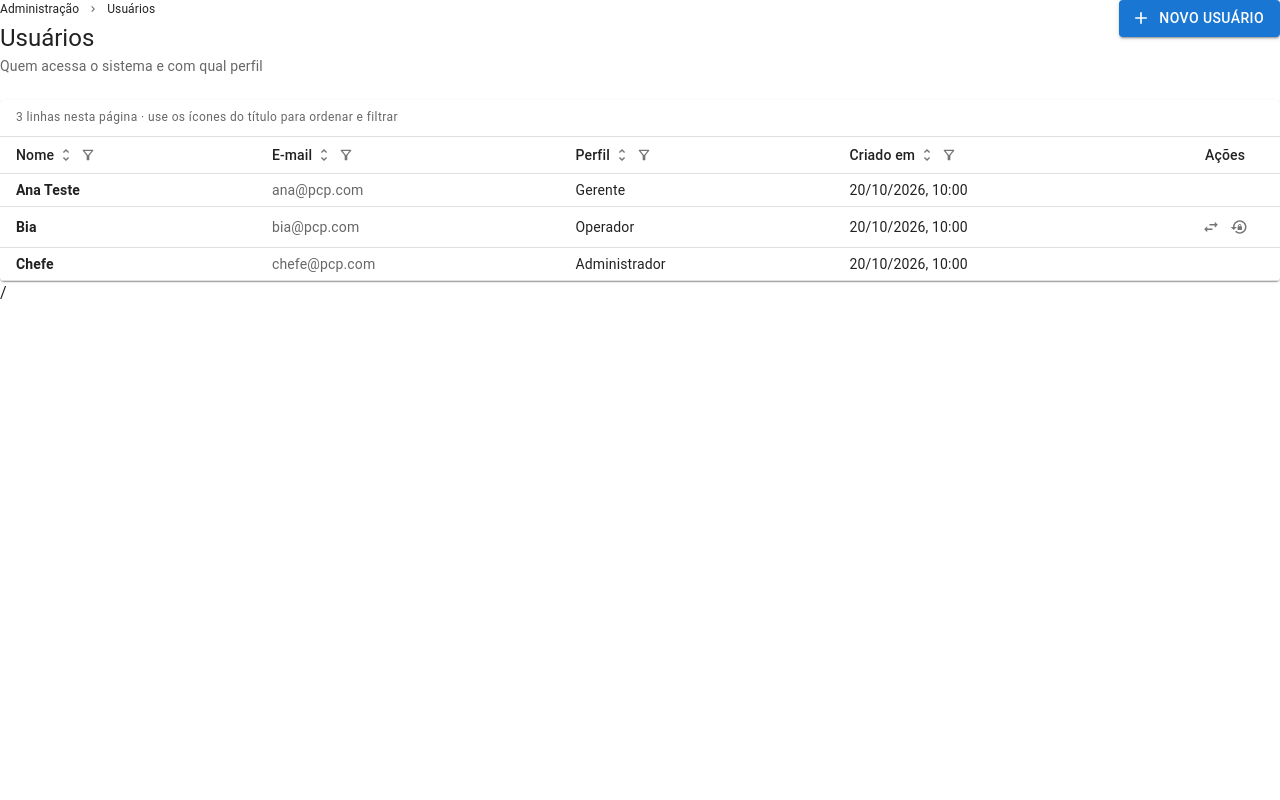
Test case: UsuariosAcessoPage › mostra o motivo quando o servidor recusa (e-mail já cadastrado)
This screenshot has width=1280, height=800.
Click the button "Novo usuário".
click(1200, 18)  # box [1119,0,1279,36]
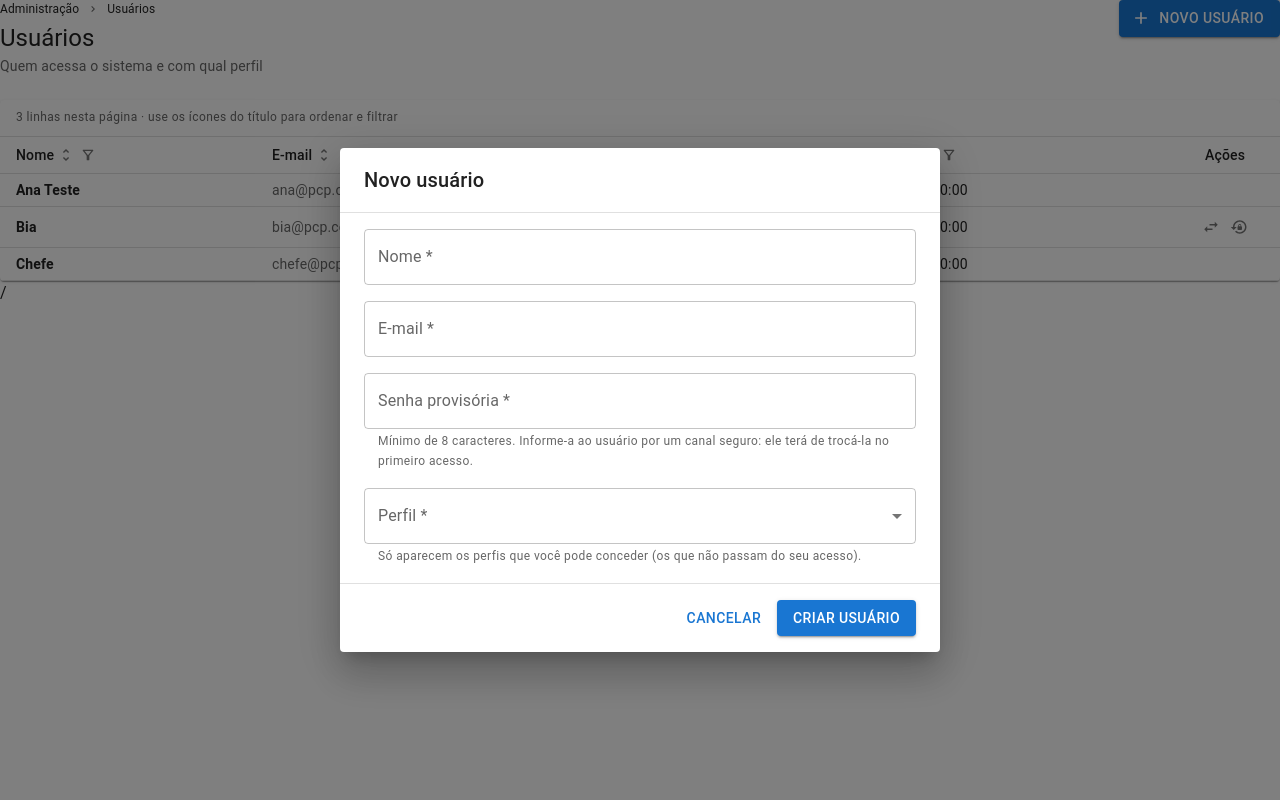
Type "Carla" into the field labelled "Nome *".
click(640, 257); type("Carla")  # box [364,229,916,285]
Type "carla@pcp.com" into the field labelled "E-mail *".
click(640, 329); type("carla@pcp.com")  # box [364,301,916,357]
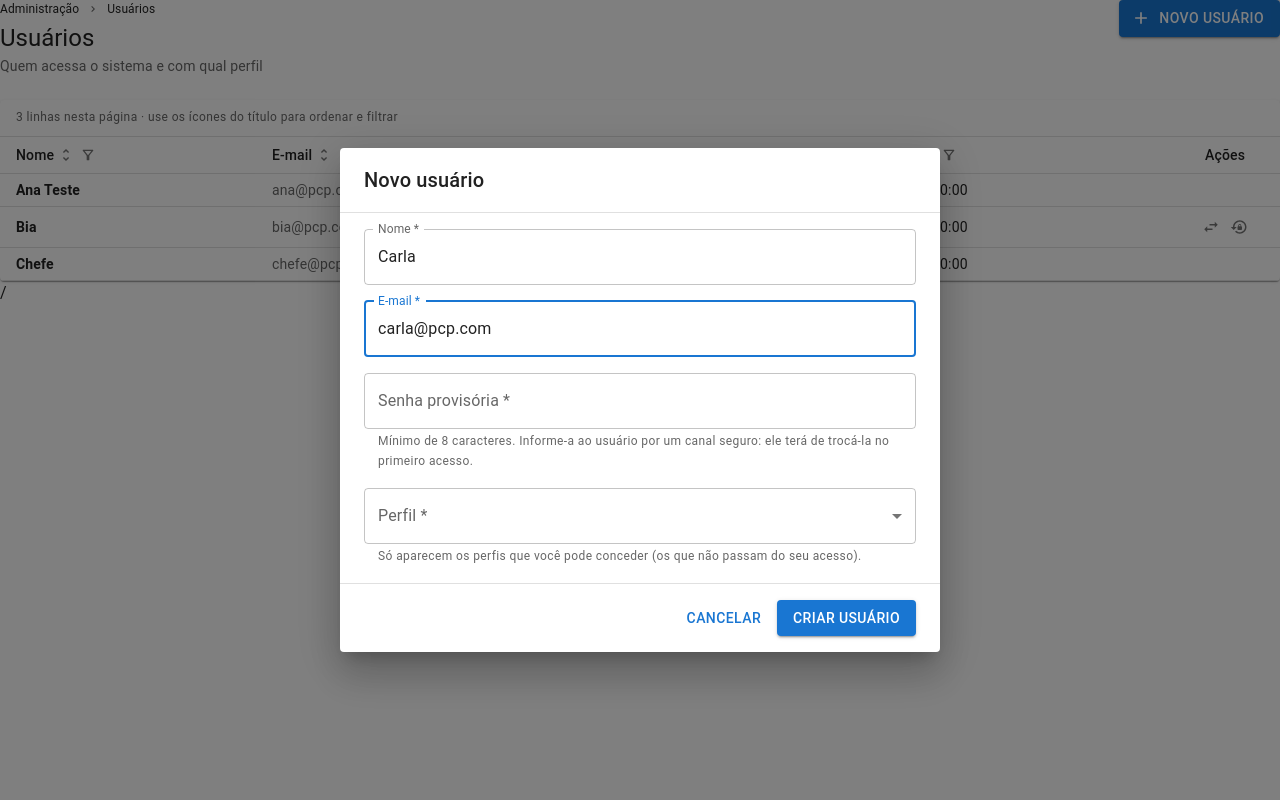
Type "provisoria1" into the password field labelled "Senha provisória *".
click(640, 401); type("provisoria1")  # box [364,373,916,429]
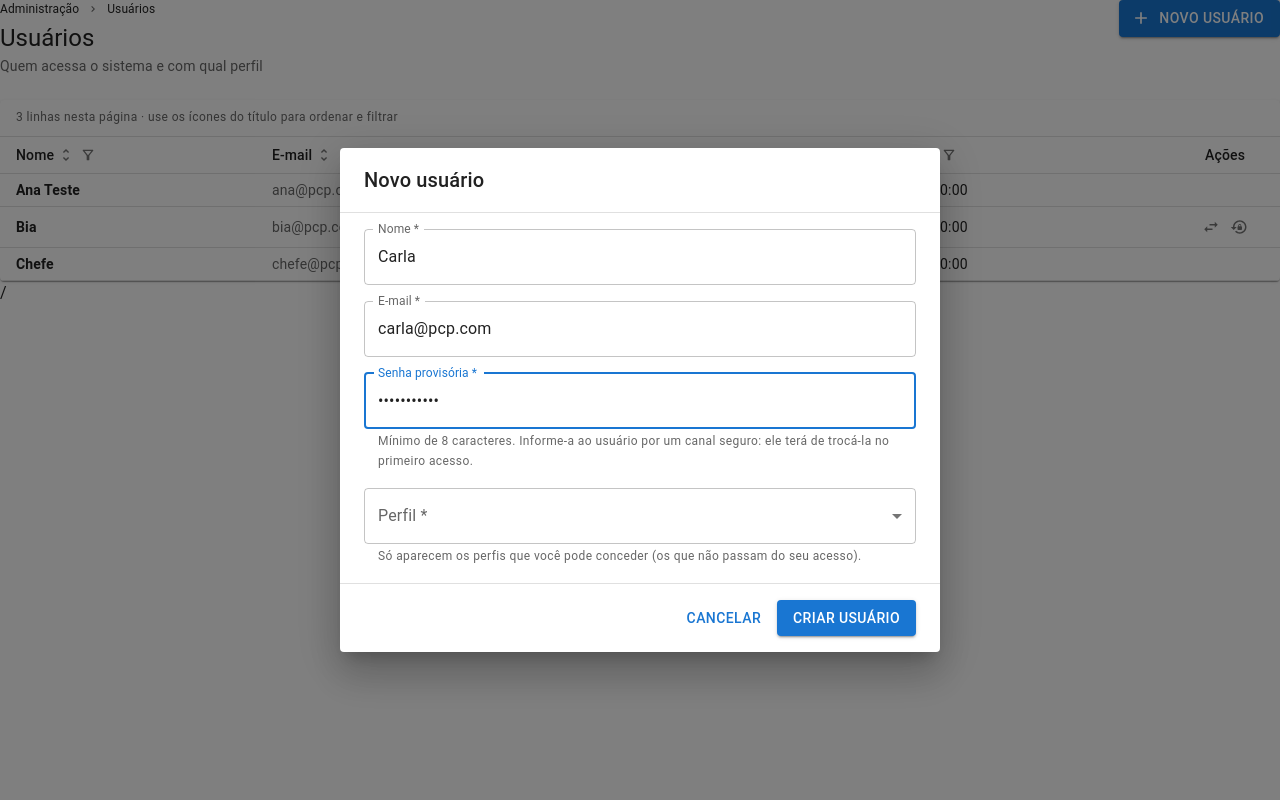
Click the dropdown named "Perfil".
click(640, 516)  # box [364,488,916,544]
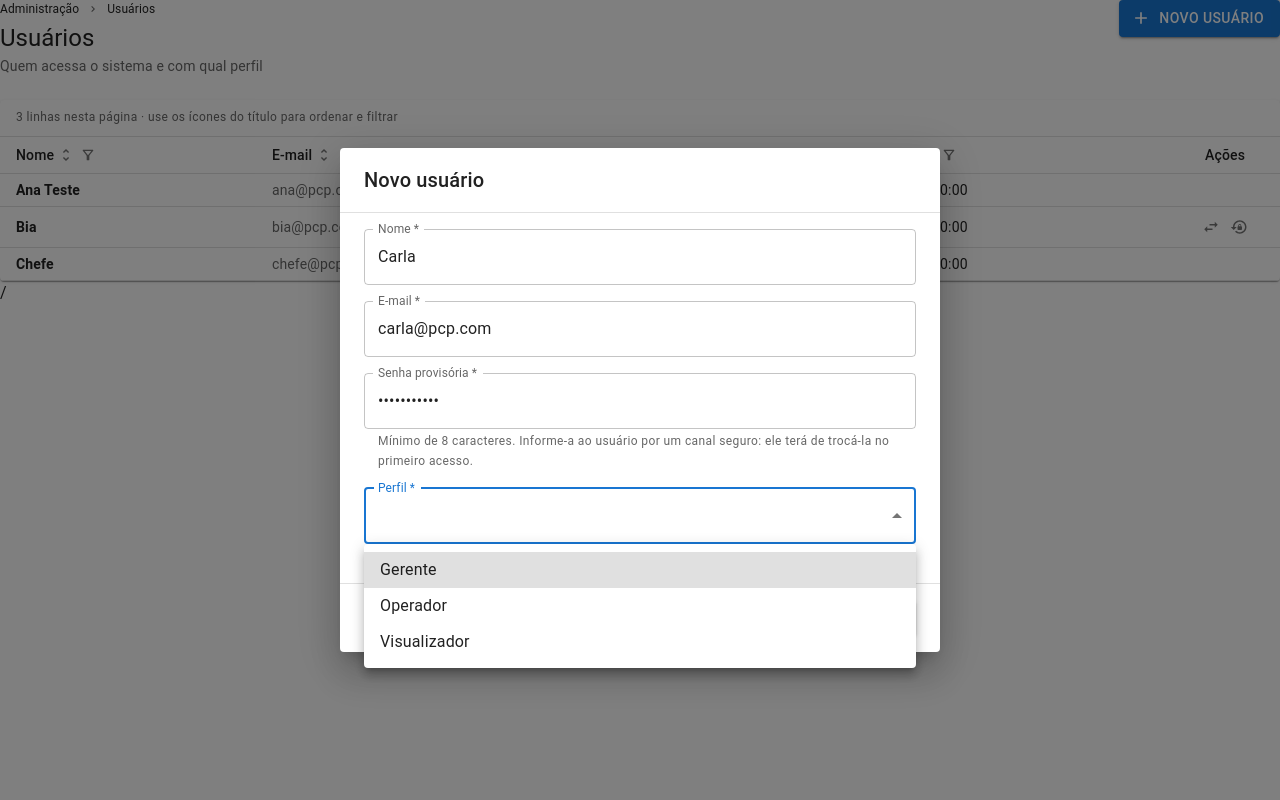
Click the option "Operador".
click(414, 606)  # box [380,596,447,615]
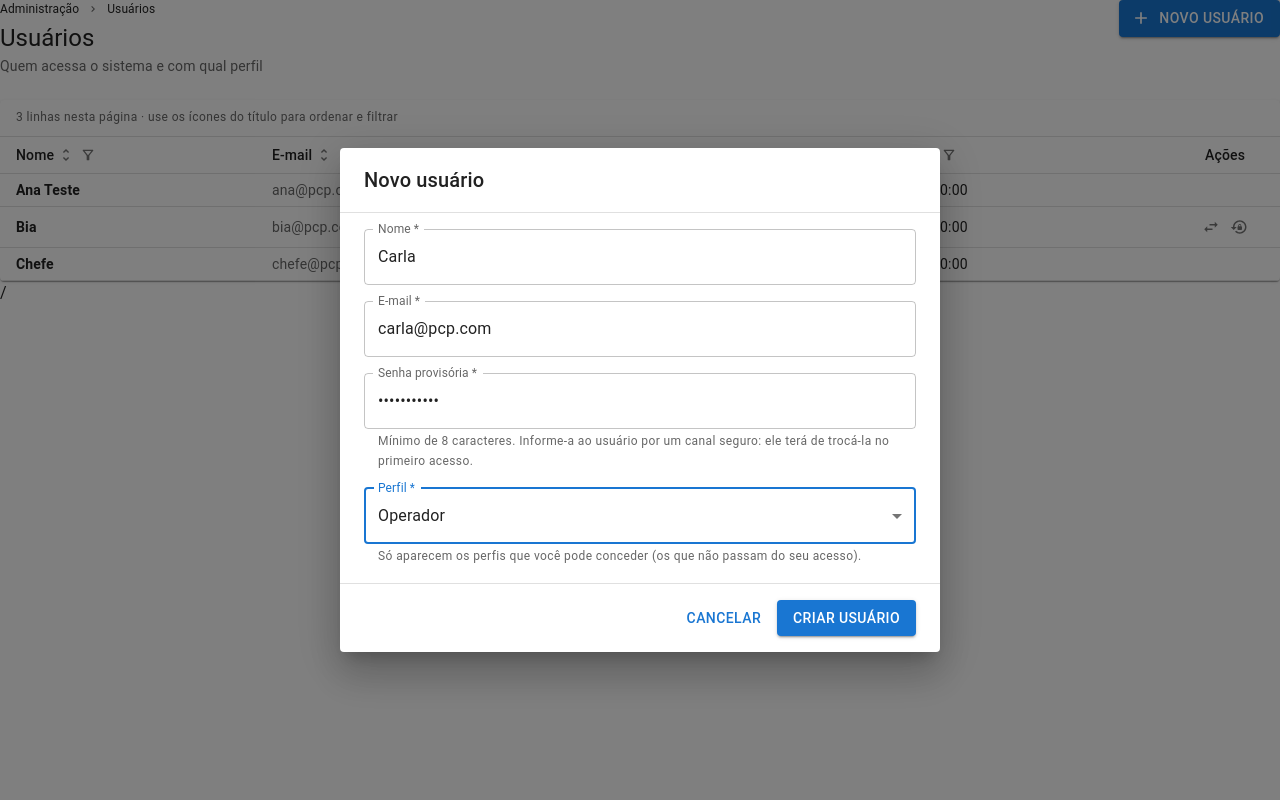
Click the button "Criar usuário".
click(846, 618)  # box [777,600,916,636]
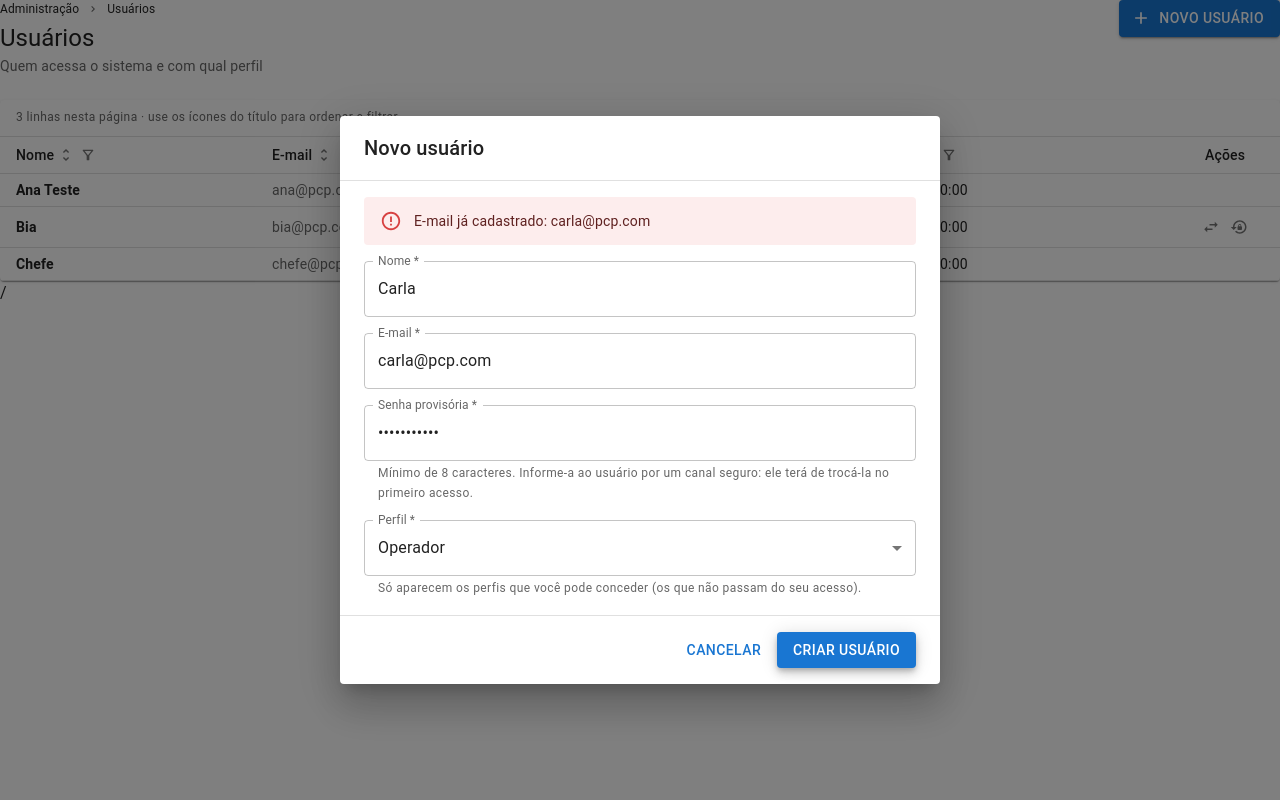
Expected: the text "E-mail já cadastrado: carla@pcp.com" is shown, [414,213,650,229]
